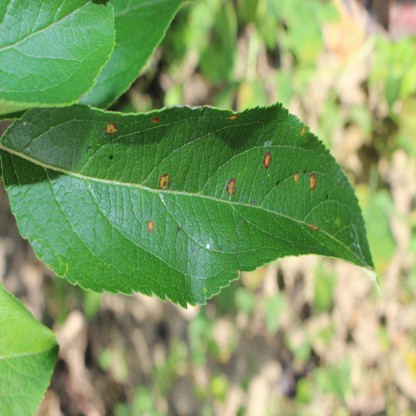rust: (104, 124, 117, 136), (227, 178, 236, 195), (159, 174, 169, 189), (264, 152, 272, 169), (310, 173, 316, 189), (308, 223, 318, 231), (148, 220, 153, 233), (293, 172, 298, 183), (152, 117, 159, 124), (230, 115, 238, 120), (301, 127, 305, 136)
